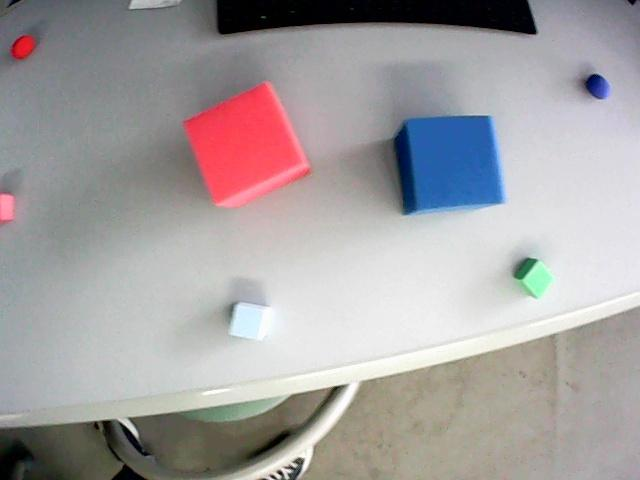blue_block: (395, 116, 504, 213), (229, 302, 271, 339)
red_block: (184, 83, 309, 206), (0, 194, 14, 221)
